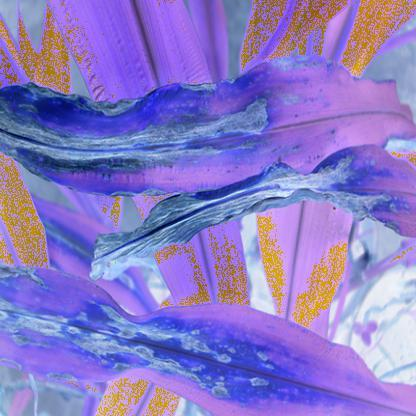Corn leaf blight: (1, 253, 404, 415), (0, 54, 408, 197), (76, 144, 414, 292)
